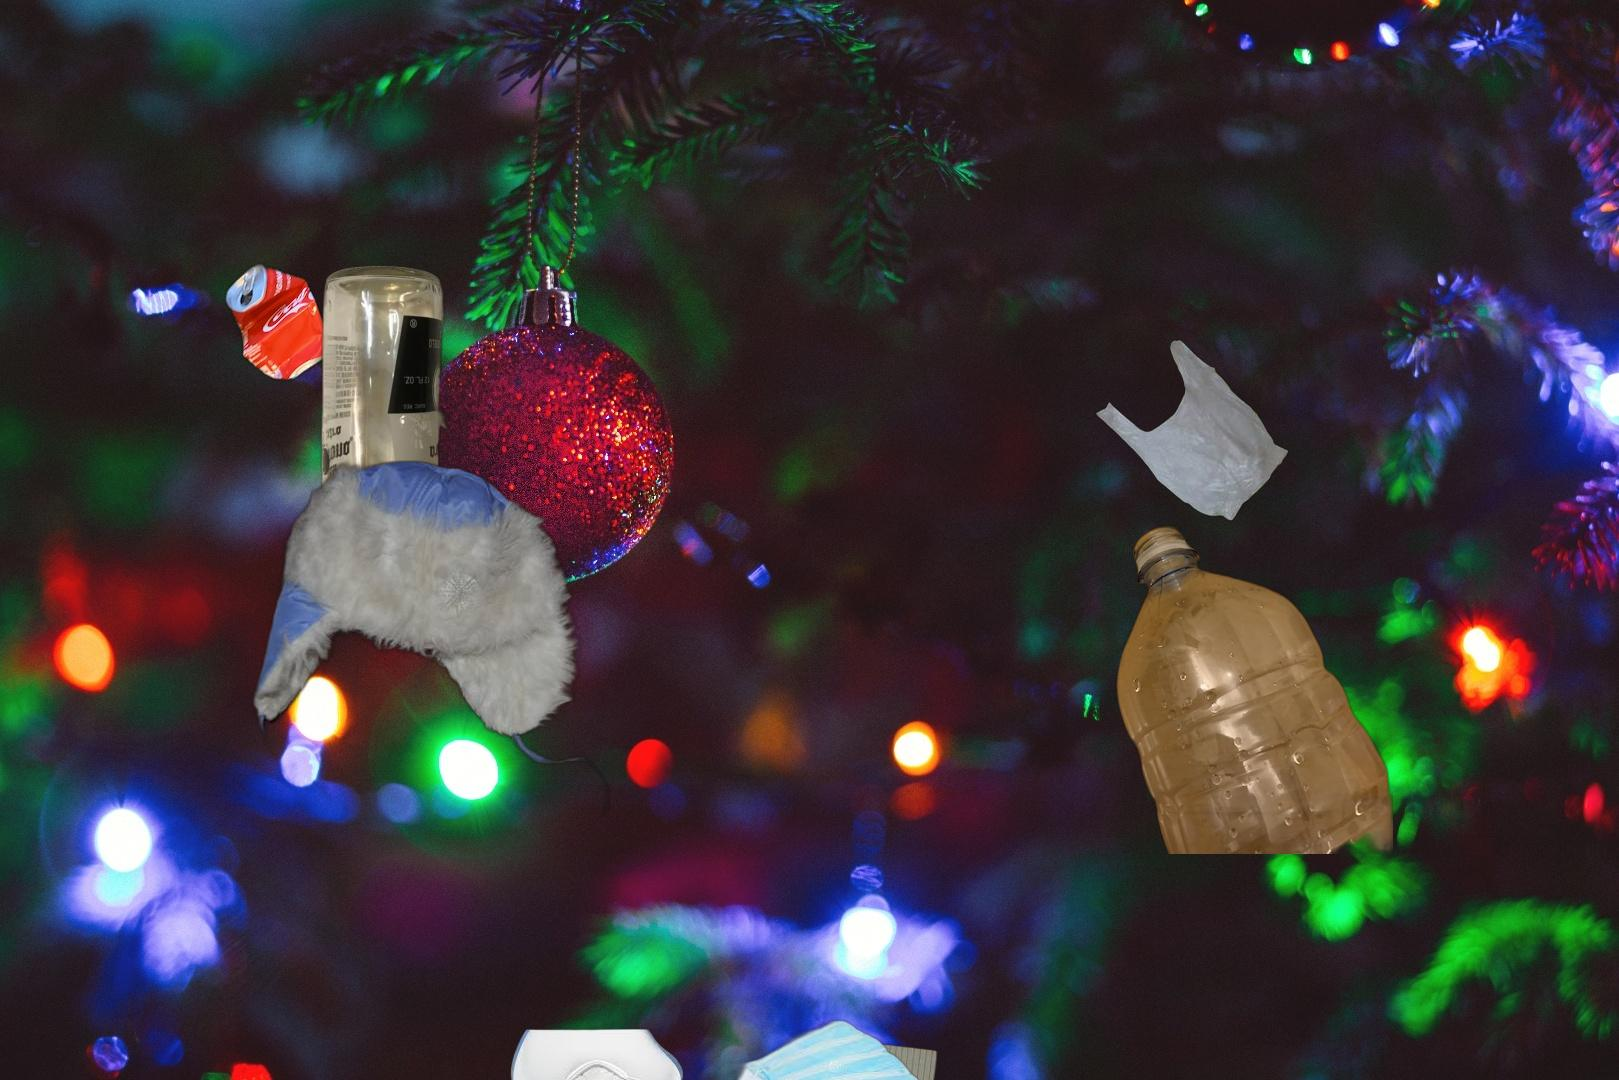clothes: (248, 456, 612, 817)
glass: (316, 256, 456, 585)
metal-cans: (222, 257, 333, 386)
paper: (797, 1034, 942, 1080)
plastic-bag: (1093, 336, 1290, 524)
plastic-bottles: (1111, 521, 1394, 855)
trash: (723, 1017, 957, 1080), (508, 1026, 686, 1080)
